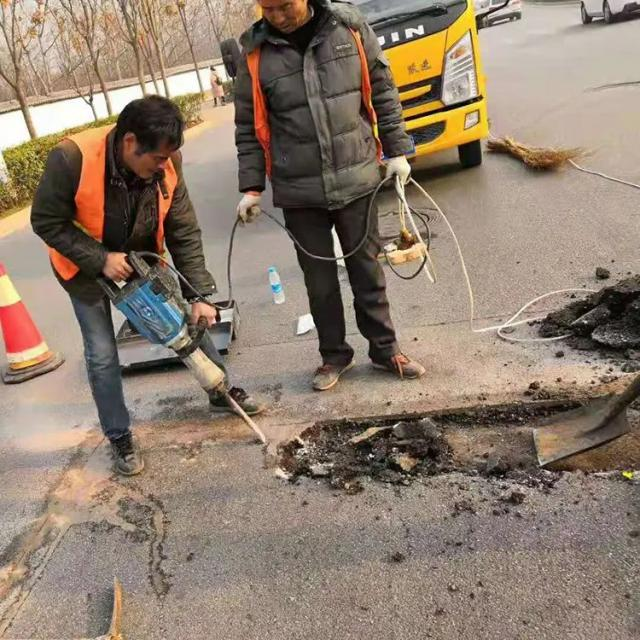Pothole: (288, 409, 639, 496)
